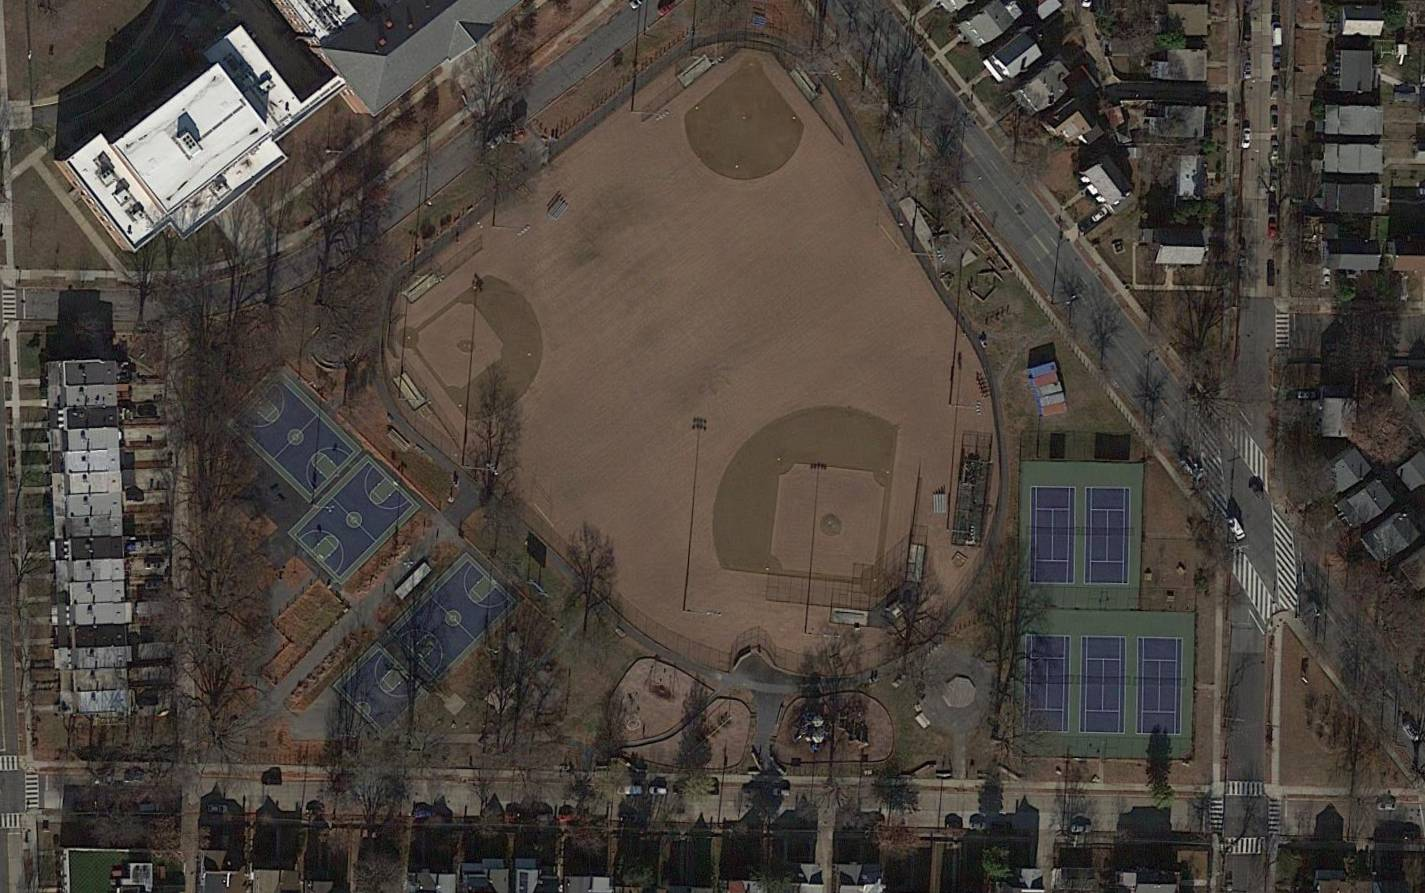baseball diamond: (707, 398, 903, 581), (408, 267, 569, 427), (671, 64, 816, 203)
basketball court: (229, 374, 357, 499), (392, 557, 516, 681), (292, 460, 417, 582), (337, 645, 426, 736)
tennis court: (1019, 632, 1072, 735), (1133, 634, 1185, 738), (1027, 483, 1079, 586), (1078, 633, 1129, 737), (1082, 484, 1133, 586)
